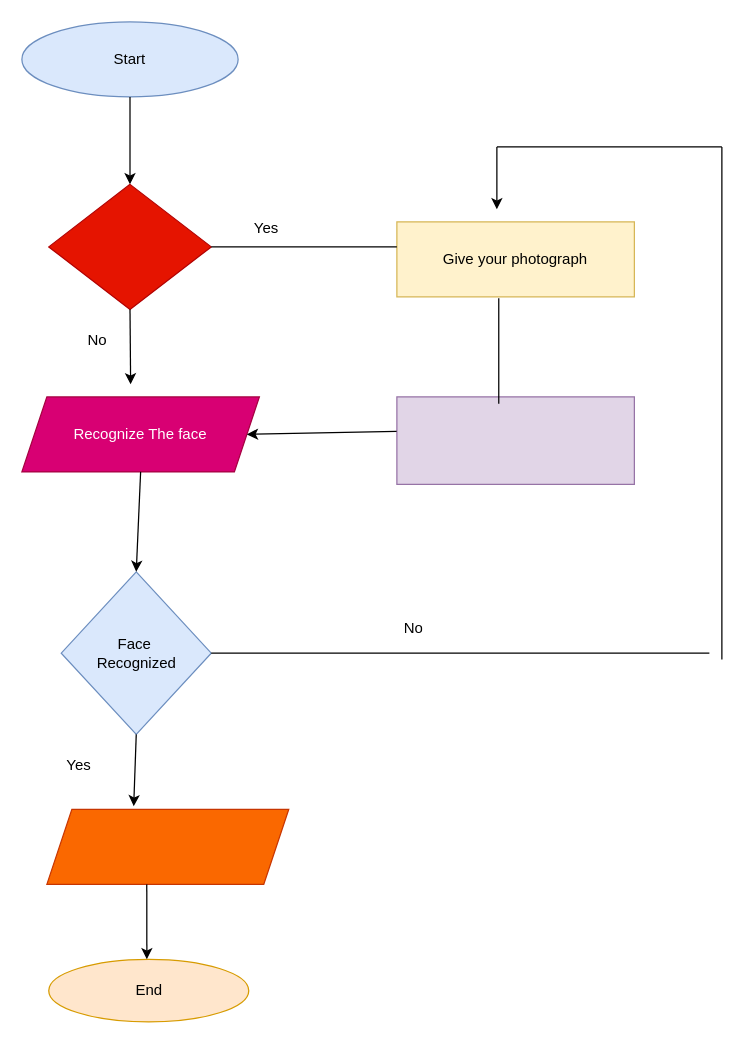
Image size: 745x1044. Some labels were removed from this diagram. The centre of each missing label's shape, as x and y in pixels:
"New User ?" belongs at (129,246).
"SStored in CSV file with registration number &data - time of entry" belongs at (167,846).
"store the face data in folder on your name" belongs at (515,440).
